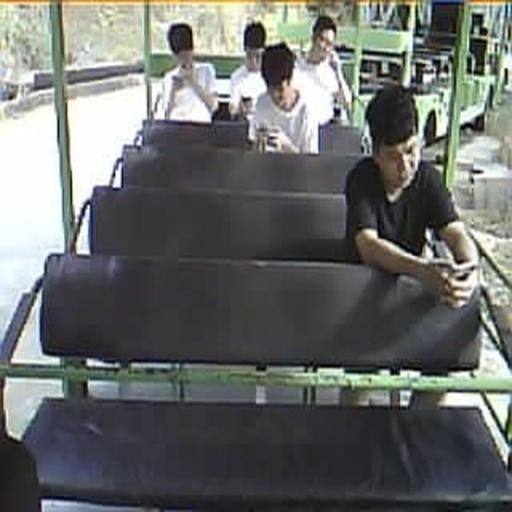persona: (342, 83, 482, 409), (344, 84, 481, 310), (252, 42, 320, 154), (152, 22, 219, 123), (298, 15, 354, 125), (228, 21, 269, 119)
